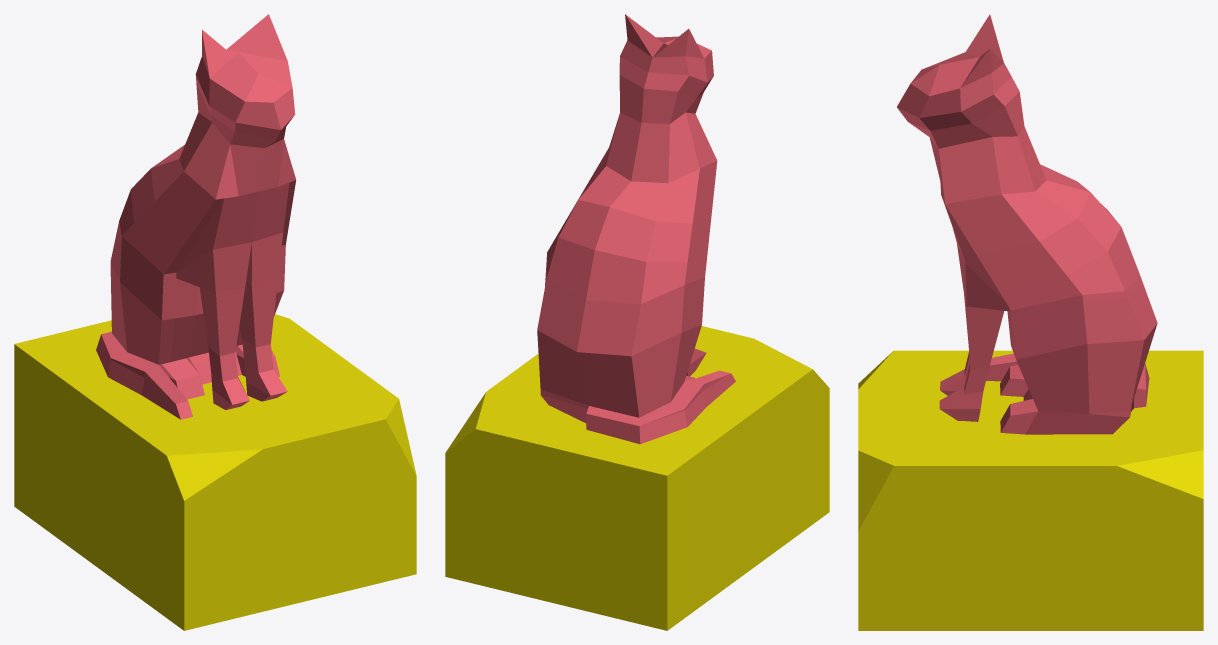
Rendered from decoration-statue-egypt.fbx.
3 views of the same model, side by side, from view 1: azimuth 30°, elevation 25°; view 2: azimuth 150°, elevation 25°; view 3: azimuth 270°, elevation 25° (orthographic). The views are drawn at different scales.
Visible parts, largest first — view 1: decoration-statue-egypt; view 2: decoration-statue-egypt; view 3: decoration-statue-egypt.
Boxes of the visible parts, x1=… form: decoration-statue-egypt: x1=14, y1=14, x2=416, y2=630; decoration-statue-egypt: x1=445, y1=14, x2=829, y2=630; decoration-statue-egypt: x1=858, y1=14, x2=1203, y2=630.
Size of the model in its own units: 2.7 by 5.93 by 3.42.
